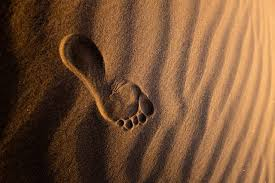human_foot_print: (38, 19, 164, 150)
